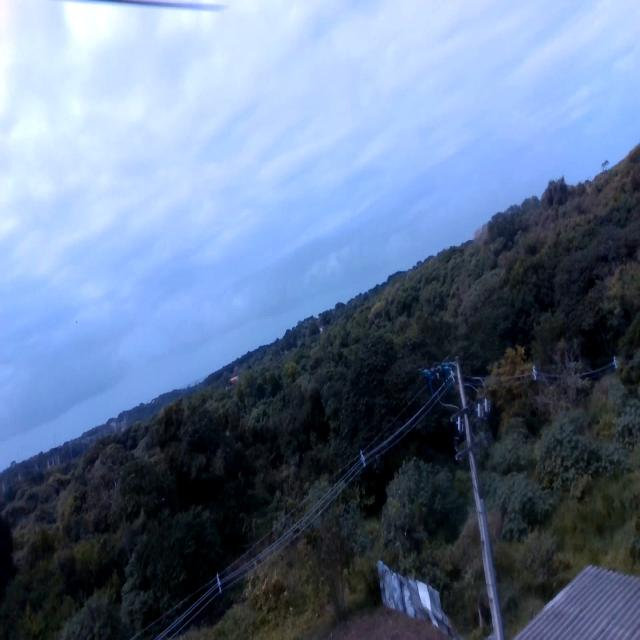-uav-: (414, 352, 460, 409)
